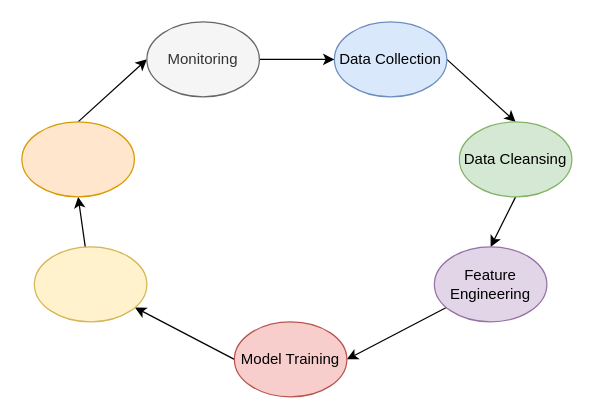
This 594x419 diagram has some shape labels left out. Here are the shapes that lost their labels. From the top down, the centre of each, then its label:
At [77,159]: "Deployment".
At [90,284]: "Evaluation".
